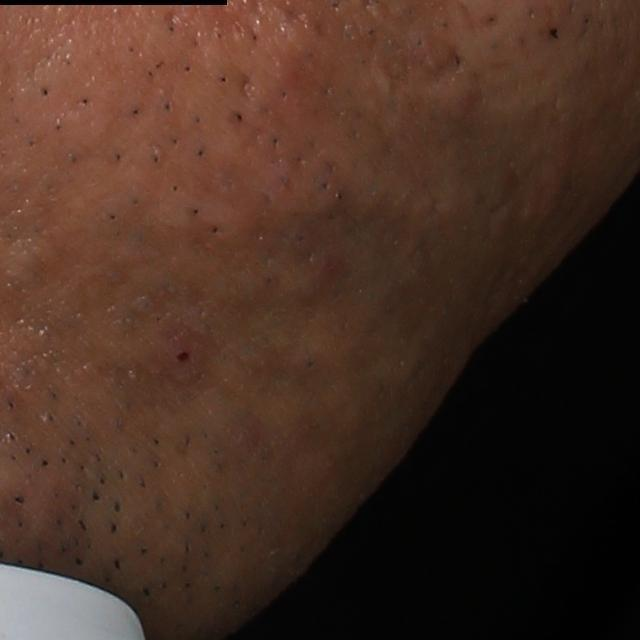atrophic_scar: (237, 77, 255, 102)
hypertrophic_scar: (198, 16, 313, 87), (389, 55, 473, 134), (144, 452, 225, 527), (254, 384, 324, 450), (177, 184, 248, 238), (0, 237, 56, 281)
